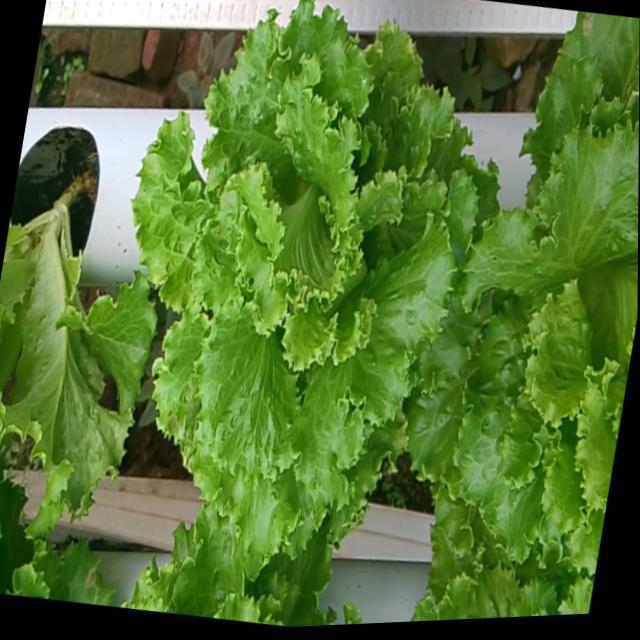Mature: (145, 0, 490, 543), (417, 105, 639, 550)
